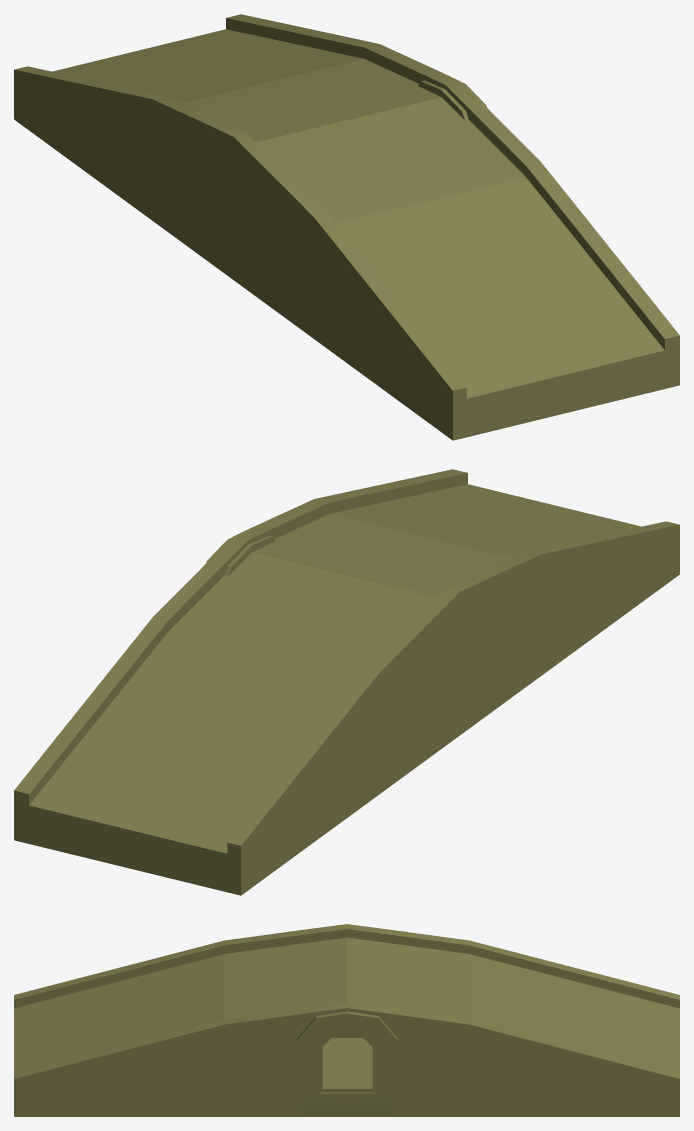
File: PuenteArreglado.fbx
The picture shows the model from 3 angles, top to bottom: view 1: azimuth 30°, elevation 25°; view 2: azimuth 150°, elevation 25°; view 3: azimuth 270°, elevation 25°; orthographic projection. The views are drawn at different scales.
Visible parts, largest first — view 1: Arreglado; view 2: Arreglado; view 3: Arreglado.
Part boxes in pixels (bbox=[...]): Arreglado: bbox=[14, 14, 679, 440]; Arreglado: bbox=[14, 469, 679, 895]; Arreglado: bbox=[14, 924, 679, 1116].
Bounding box in the file's own units: 10.78 × 6.41 × 35.2.
